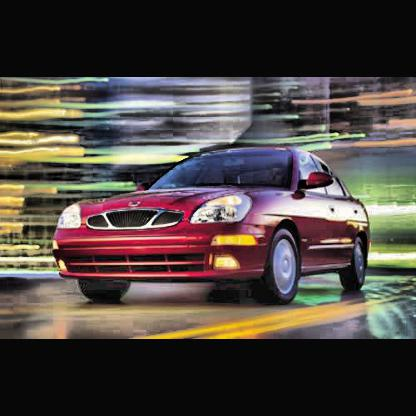Daewoo Nubira Wagon 2002: (53, 146, 374, 304)
